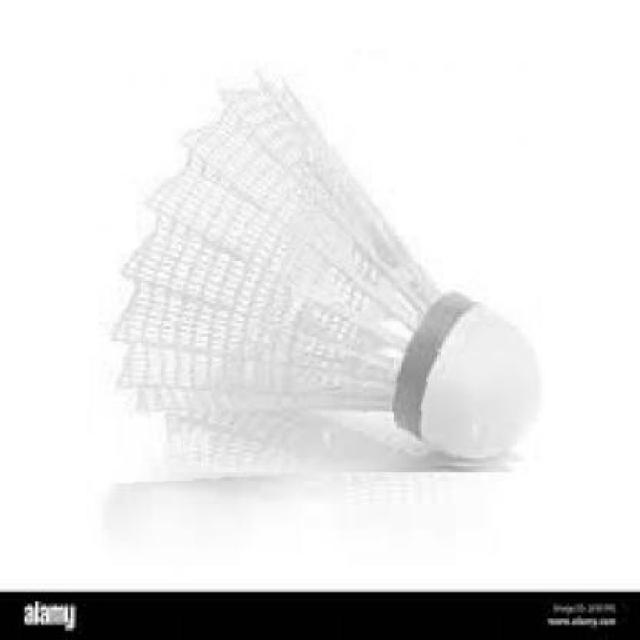Shuttlecock: (93, 55, 544, 477)
